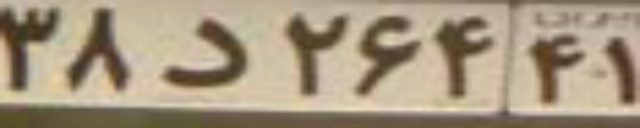1: (604, 35, 637, 103)
2: (282, 10, 347, 97)
3: (1, 4, 58, 92)
4: (435, 14, 494, 97), (527, 33, 592, 104)
6: (355, 12, 424, 96)
8: (62, 3, 135, 92)
dal: (160, 16, 253, 87)
